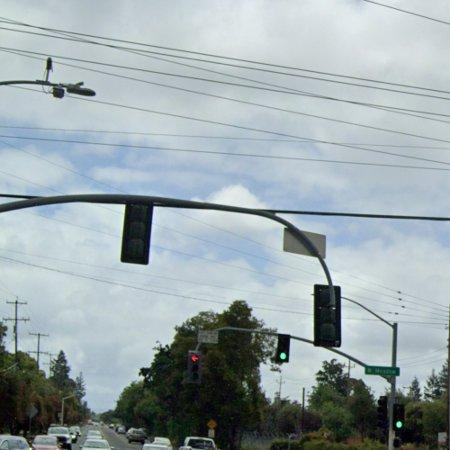traffic lights: (120, 199, 157, 266), (315, 281, 342, 350), (276, 333, 290, 364)
